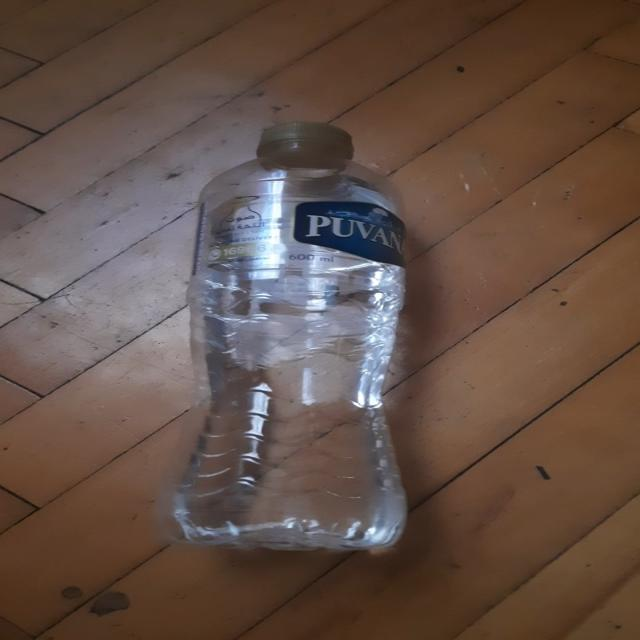Plastic: (168, 123, 409, 555)
